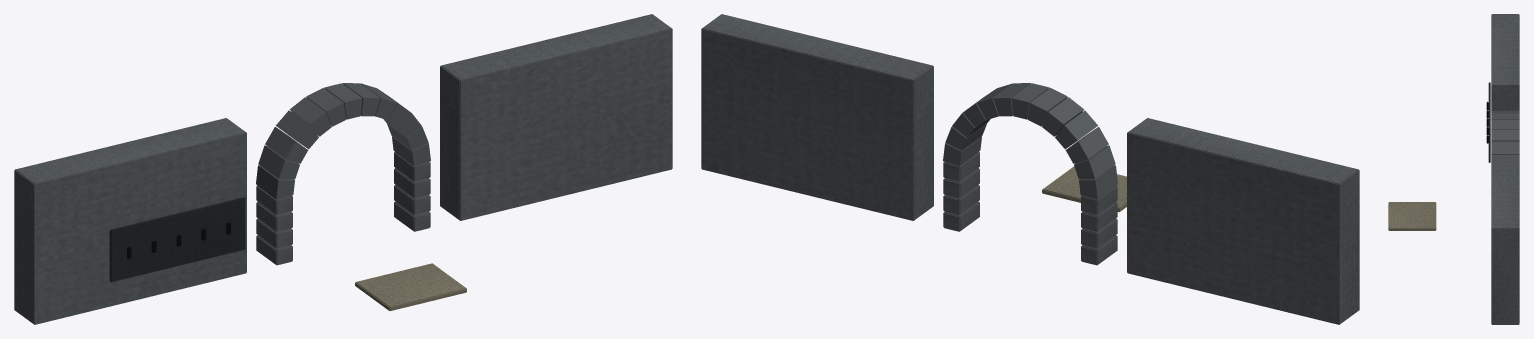
Rendered from dungeonTrap-v1.glb.
The picture shows the model from 3 angles, left to right: view 1: azimuth 30°, elevation 25°; view 2: azimuth 150°, elevation 25°; view 3: azimuth 270°, elevation 25°; orthographic projection. The views are drawn at different scales.
Visible parts, largest first — view 1: Rear chamber wall right, Rear chamber wall left, Masonry arch 0 pier, Slotted wall panel, Raised pressure stone; view 2: Rear chamber wall left, Rear chamber wall right, Masonry arch 0 pier, Raised pressure stone; view 3: Rear chamber wall right, Rear chamber wall left, Raised pressure stone, Masonry arch 0 pier, Slotted wall panel.
Boxes of the visible parts, x1,y1,x2,y2 form: Rear chamber wall right: (440, 14, 672, 220); Rear chamber wall left: (14, 118, 246, 324); Masonry arch 0 pier: (256, 83, 430, 265); Slotted wall panel: (109, 197, 245, 282); Raised pressure stone: (355, 263, 466, 310); Rear chamber wall left: (1127, 118, 1359, 324); Rear chamber wall right: (701, 14, 933, 220); Masonry arch 0 pier: (943, 83, 1117, 265); Raised pressure stone: (1042, 166, 1126, 212); Rear chamber wall right: (1491, 157, 1519, 324); Rear chamber wall left: (1491, 14, 1519, 110); Raised pressure stone: (1388, 202, 1436, 230); Masonry arch 0 pier: (1491, 110, 1519, 157); Slotted wall panel: (1488, 82, 1490, 162).
Size of what is drawn, in the model's own units: 18 by 3.97 by 4.65.
10 materials, 10 textured.
